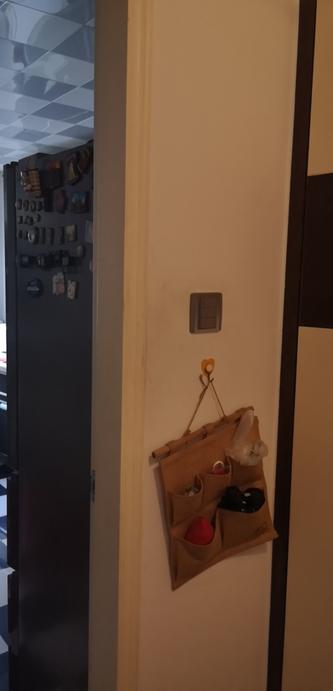switch: (197, 296, 220, 334)
